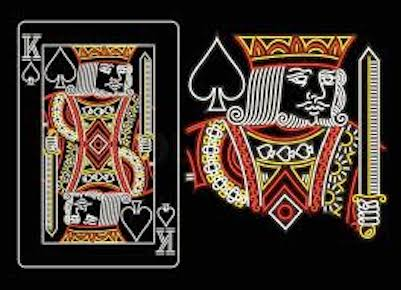KingOfSpades: (187, 23, 392, 244), (15, 17, 188, 275)
